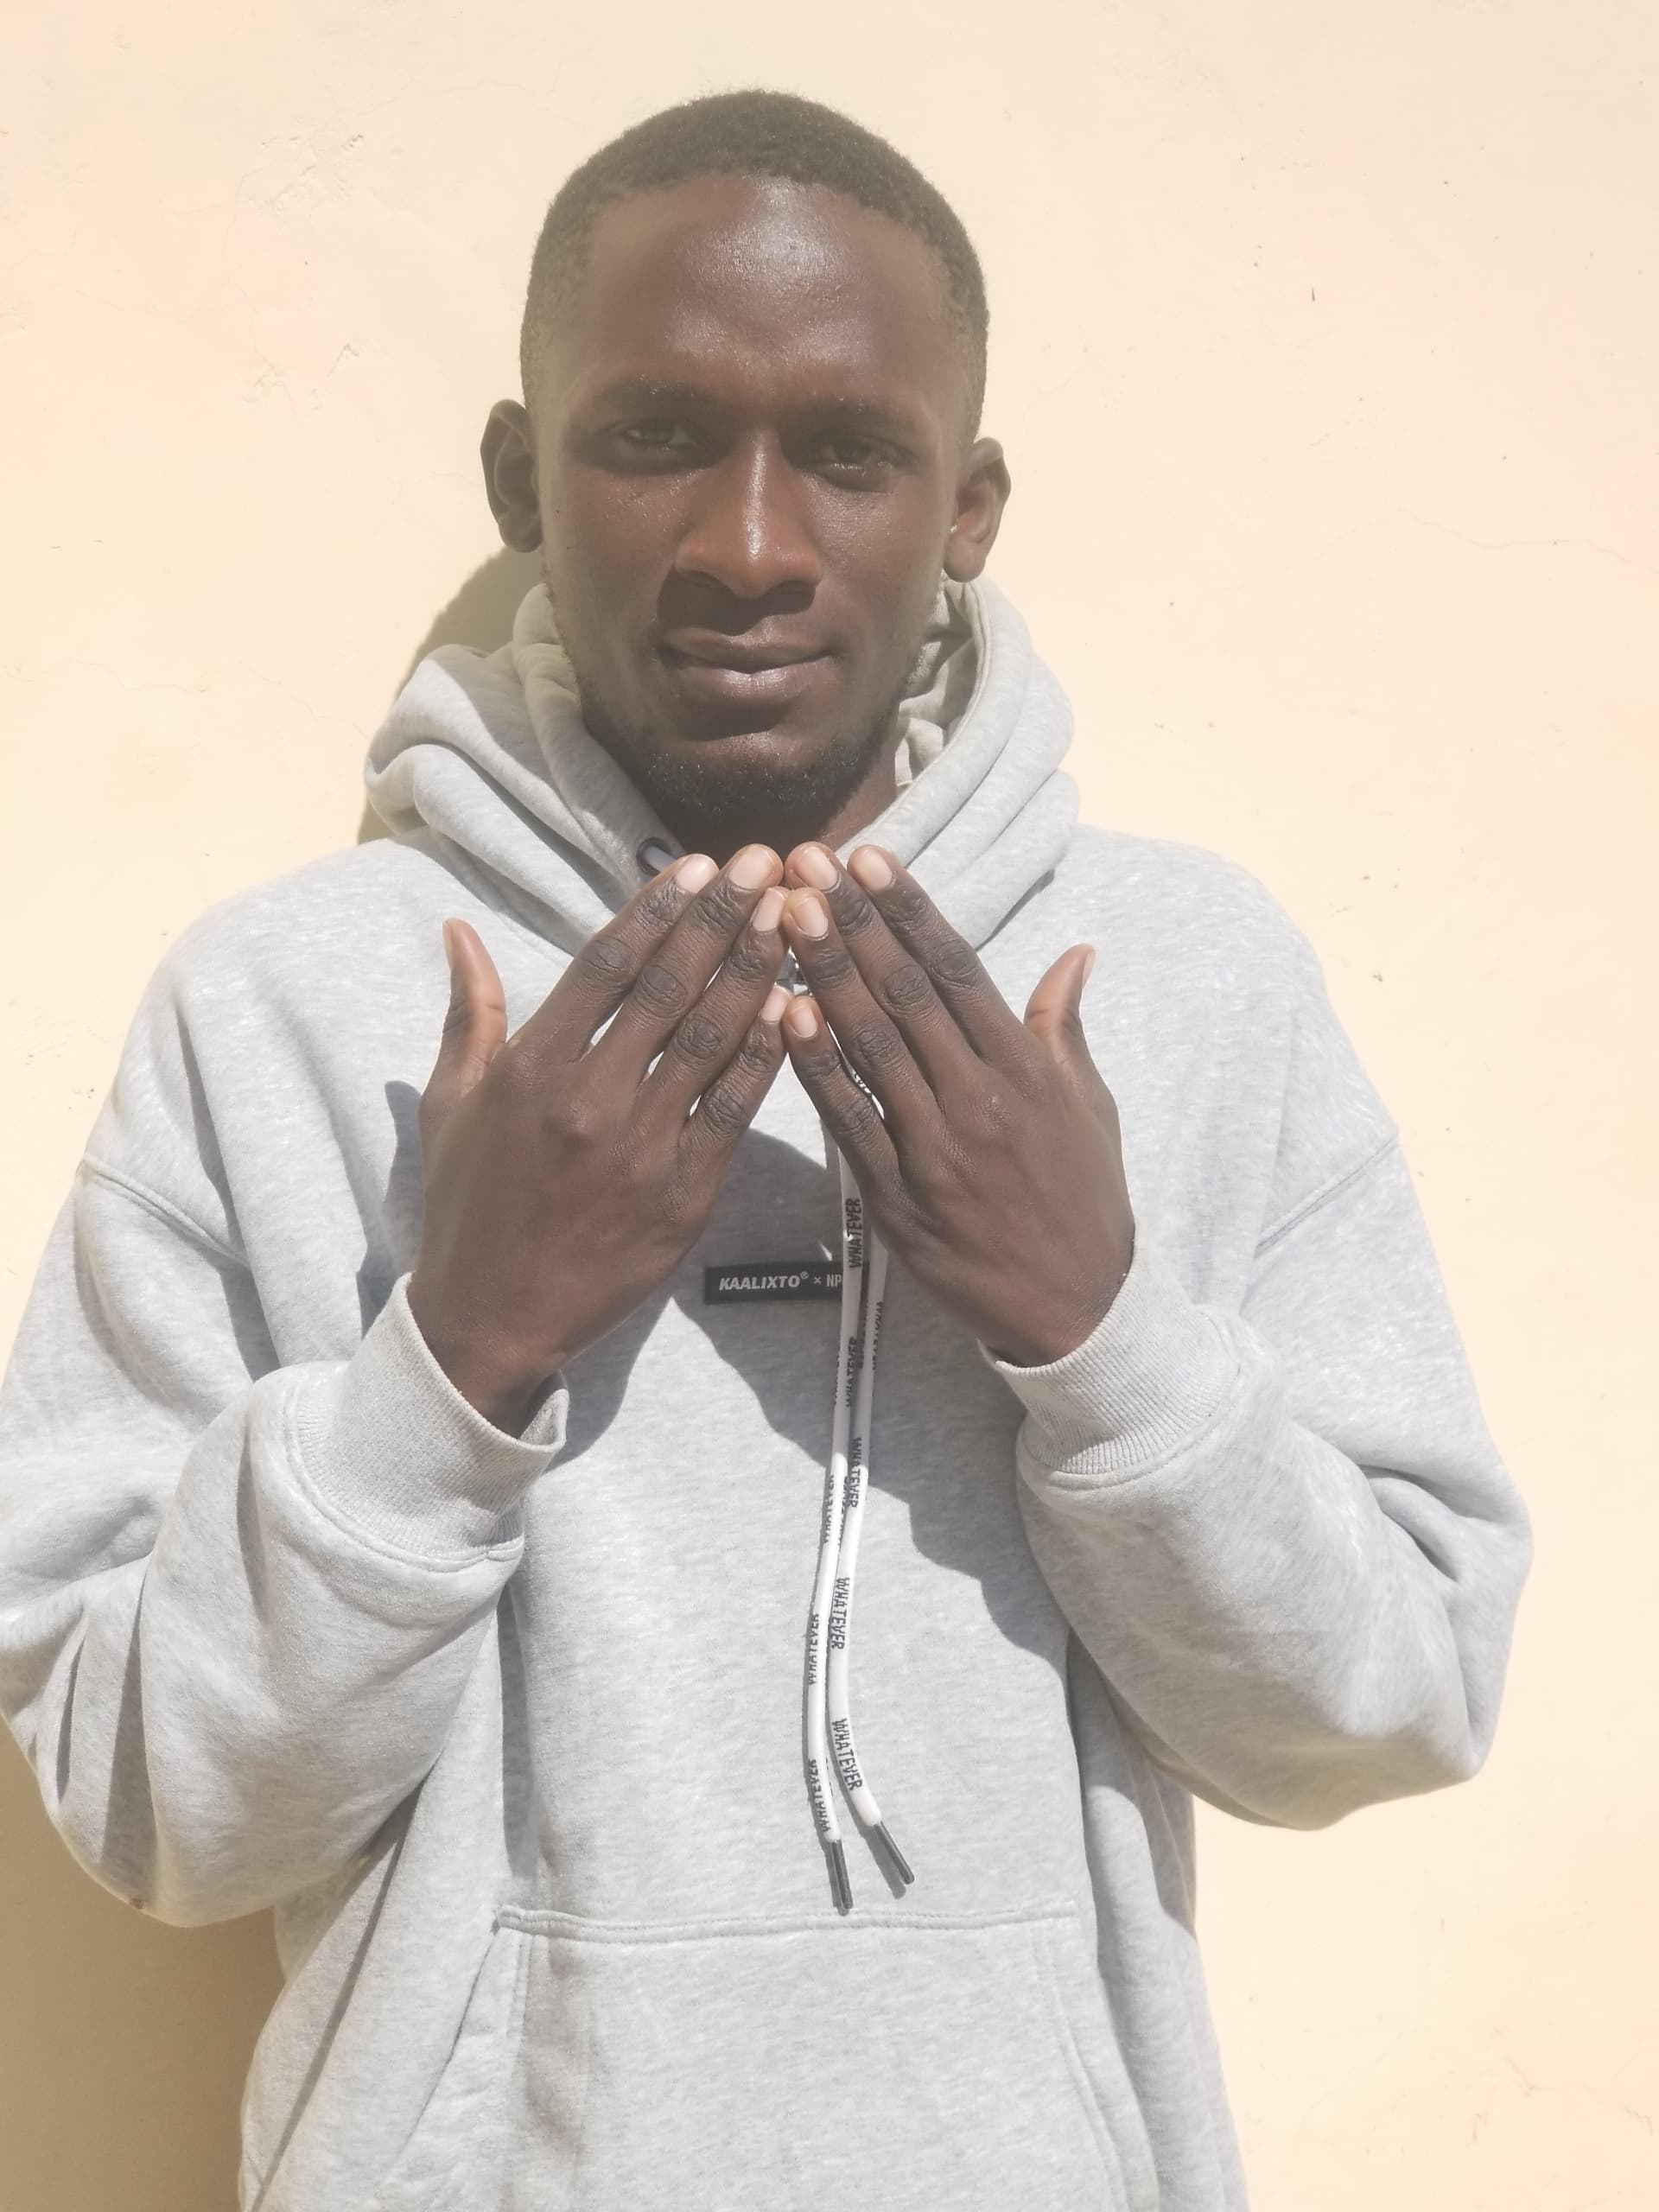thankyou: (333, 786, 1208, 1564)
